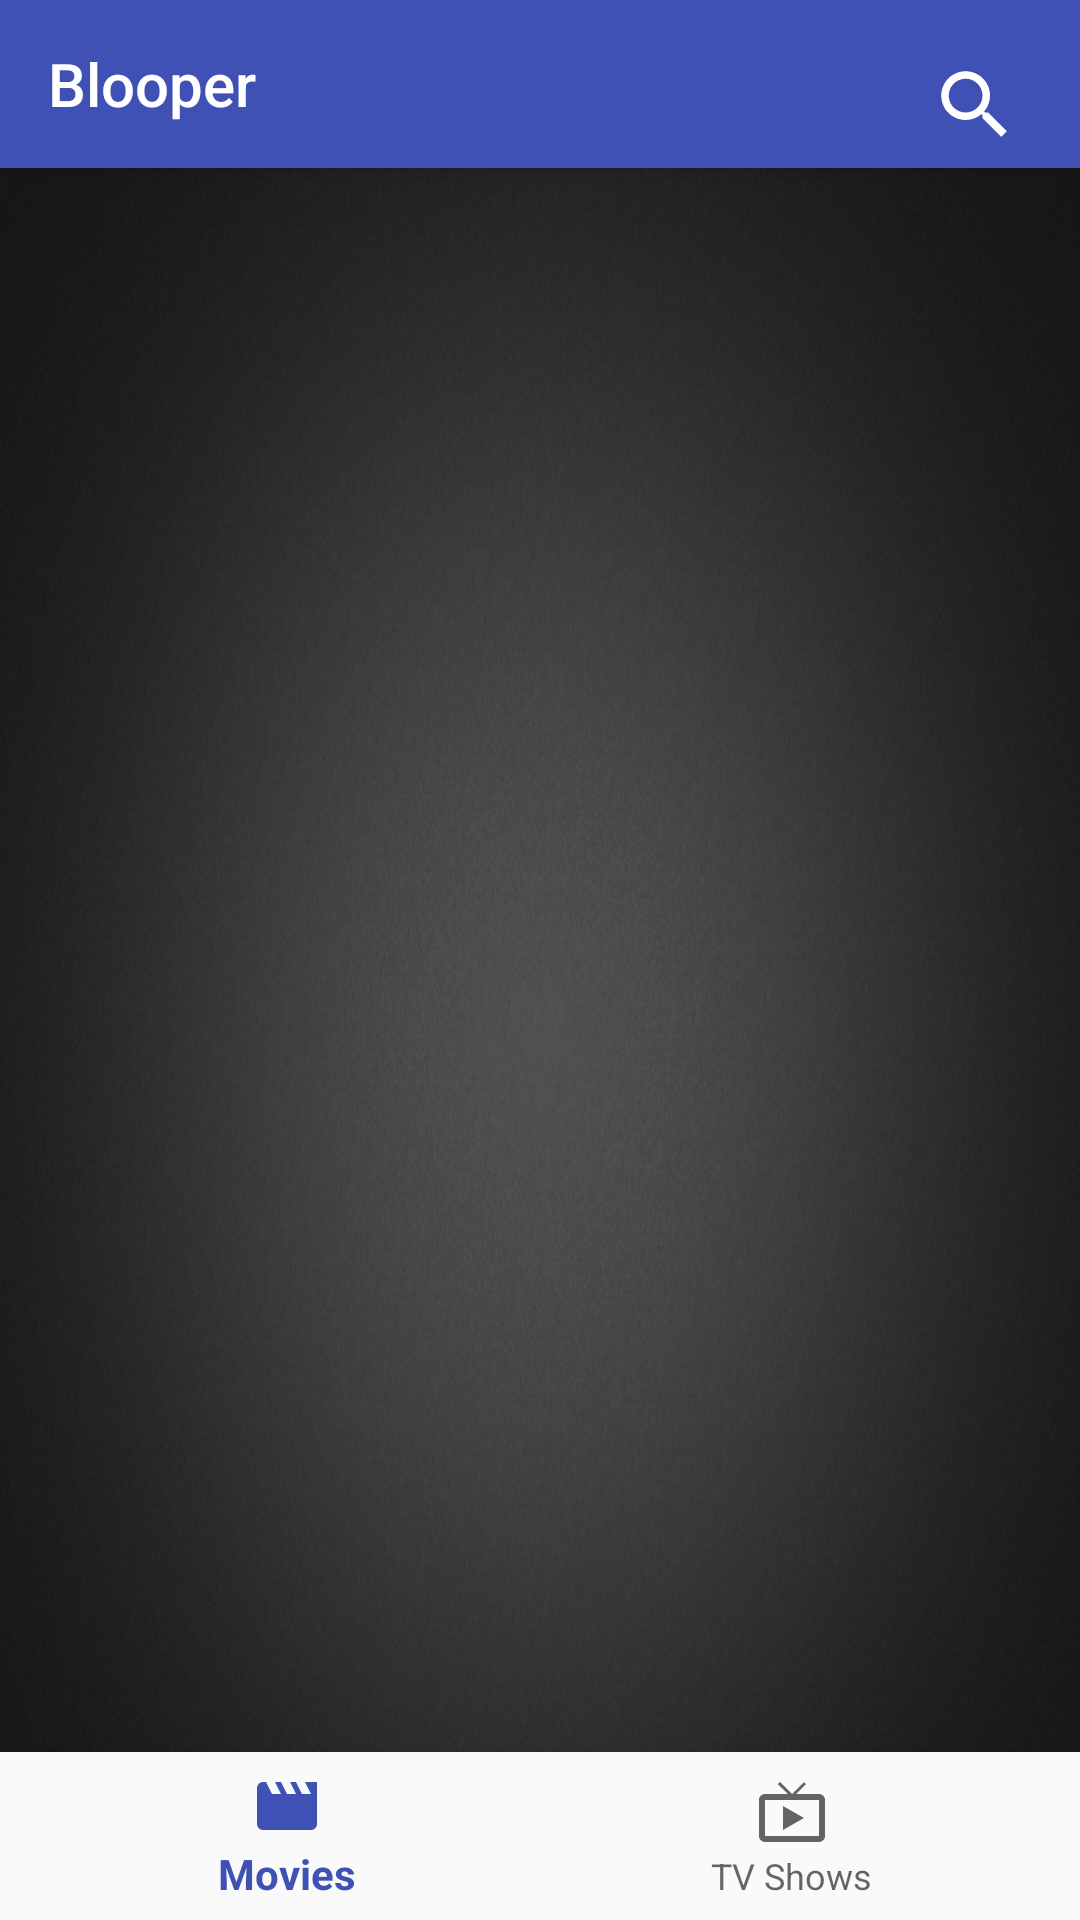

Screen size 1080w x 1920h. Icon name, then its center in pixels as point (x, y):
search: point (974, 104)
